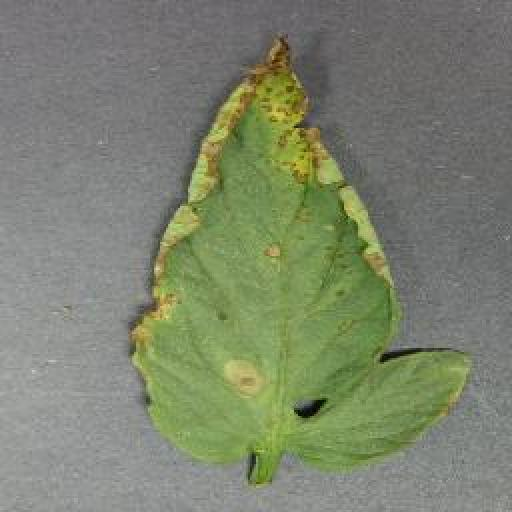Bacterial Spot: (117, 25, 479, 490)
